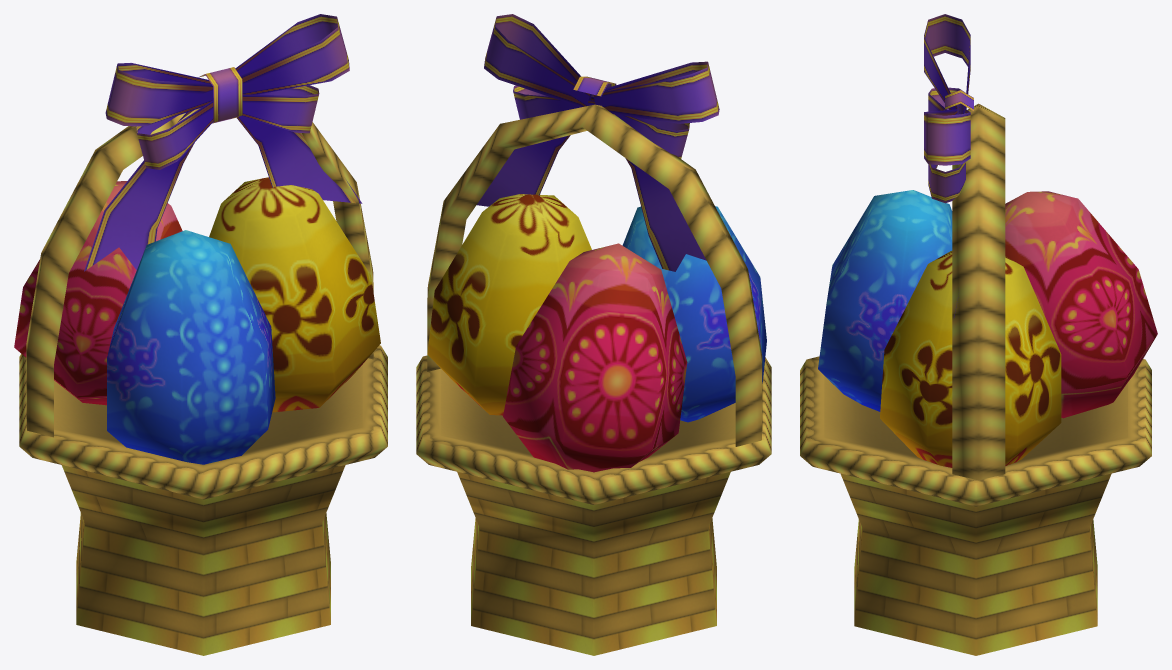
The model's file is EggBasket_02b.FBX.
The picture shows the model from 3 angles, left to right: view 1: azimuth 30°, elevation 25°; view 2: azimuth 150°, elevation 25°; view 3: azimuth 270°, elevation 25°; orthographic projection. The views are drawn at different scales.
Visible parts, largest first — view 1: EggBasket_02b; view 2: EggBasket_02b; view 3: EggBasket_02b.
Part boxes in pixels (box(x1,y1,x2,y2)): EggBasket_02b: box(14, 14, 387, 655); EggBasket_02b: box(416, 14, 771, 655); EggBasket_02b: box(800, 14, 1157, 655).
Bounding box in the file's own units: 0.6495 × 0.9441 × 0.5718.
